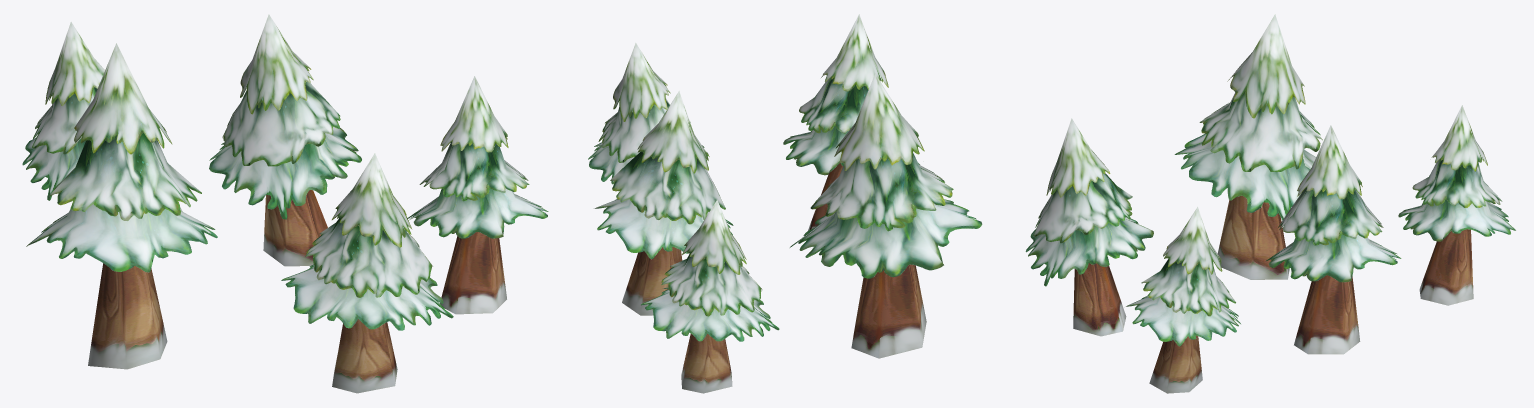
File: SM_tree_06.fbx
3 views of the same model, side by side, from view 1: azimuth 30°, elevation 25°; view 2: azimuth 150°, elevation 25°; view 3: azimuth 270°, elevation 25° (orthographic). The views are drawn at different scales.
Parts seen in each view (by area): view 1: SM_tree_06; view 2: SM_tree_06; view 3: SM_tree_06.
Part boxes in pixels (x1=…): SM_tree_06: x1=22, y1=14, x2=548, y2=393; SM_tree_06: x1=588, y1=14, x2=982, y2=393; SM_tree_06: x1=1025, y1=14, x2=1515, y2=393.
Size of the model in its own units: 5.06 by 3.22 by 5.63.
